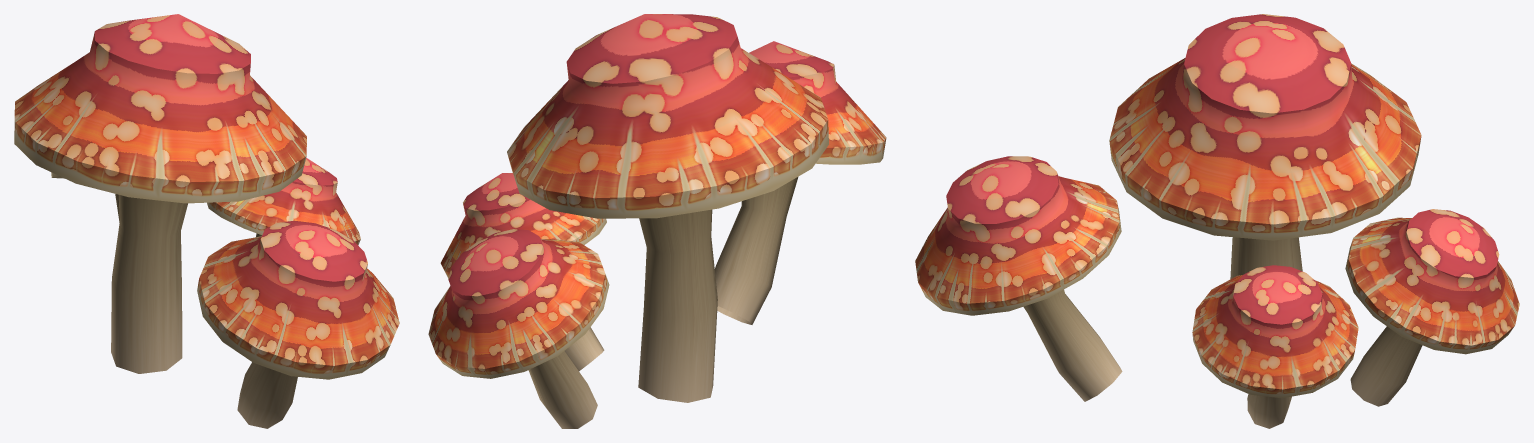
File: VEG0110010.fbx
3 renders of one model, left to right at view 1: azimuth 30°, elevation 25°; view 2: azimuth 150°, elevation 25°; view 3: azimuth 270°, elevation 25°, orthographic. The views are drawn at different scales.
Parts seen in each view (by area): view 1: smVEG0110010; view 2: smVEG0110010; view 3: smVEG0110010.
Boxes of the visible parts, <box> form: smVEG0110010: <box>14,14,399,428</box>; smVEG0110010: <box>428,14,886,428</box>; smVEG0110010: <box>915,14,1519,428</box>.
Bounding box in the file's own units: 34.8 × 36.04 × 54.21.
Materials: 1 (1 with a texture image).
